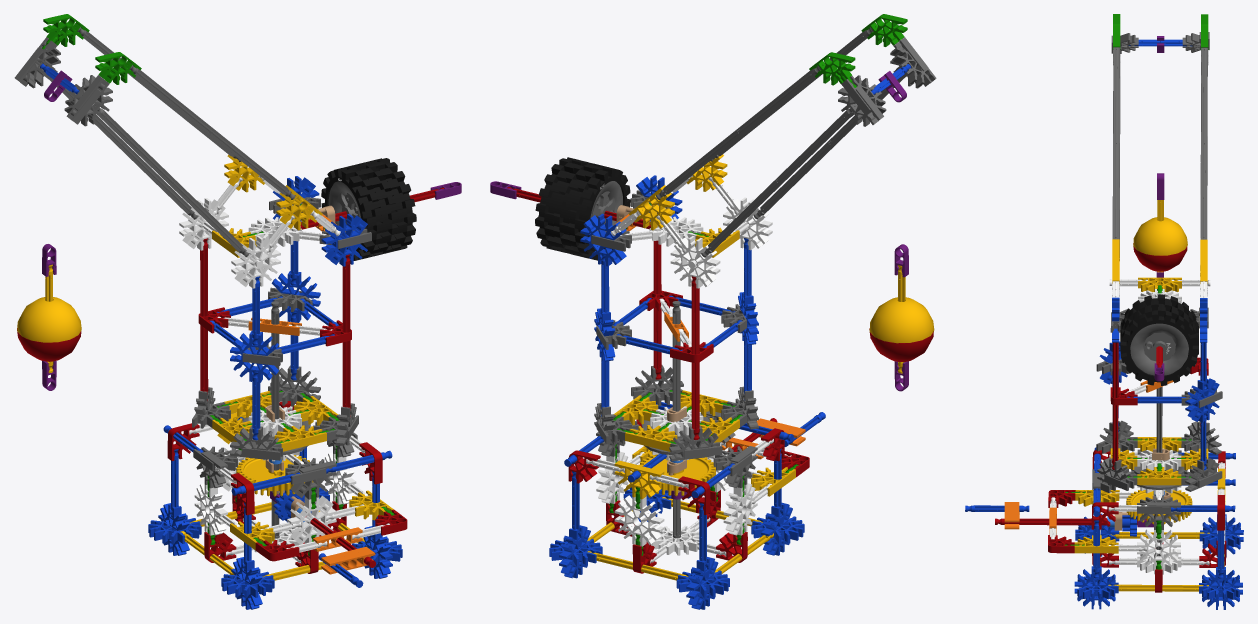
3 renders of one model, left to right at view 1: azimuth 30°, elevation 25°; view 2: azimuth 150°, elevation 25°; view 3: azimuth 270°, elevation 25°, orthographic. The views are drawn at different scales.
Visible parts, largest first — view 1: S1_L10.007, S1_L10.002, S1_L10.001, S1_L10.004, S1_L10.003, S1_L10.012, S1_L10.005, S1_L10.006, S1_L10.010, S1_L10.008; view 2: S1_L10.007, S1_L10.002, S1_L10.001, S1_L10.004, S1_L10.003, S1_L10.012, S1_L10.005, S1_L10.010, S1_L10.006, S1_L10.008; view 3: S1_L10.007, S1_L10.002, S1_L10.001, S1_L10.003, S1_L10.004, S1_L10.012, S1_L10.005, S1_L10.006, S1_L10.010, S1_L10.008.
Part boxes in pixels (x1,y1,x2,y2): S1_L10.007: [14, 27, 371, 538]; S1_L10.002: [40, 63, 402, 609]; S1_L10.001: [17, 154, 393, 580]; S1_L10.004: [179, 175, 389, 563]; S1_L10.003: [17, 187, 444, 573]; S1_L10.012: [321, 158, 416, 260]; S1_L10.005: [42, 14, 394, 556]; S1_L10.006: [248, 207, 375, 574]; S1_L10.010: [42, 70, 461, 503]; S1_L10.008: [265, 205, 335, 517]; S1_L10.007: [590, 27, 936, 538]; S1_L10.002: [549, 64, 911, 609]; S1_L10.001: [587, 154, 934, 580]; S1_L10.004: [586, 175, 791, 563]; S1_L10.003: [507, 187, 933, 573]; S1_L10.012: [535, 157, 630, 260]; S1_L10.005: [609, 14, 907, 555]; S1_L10.010: [490, 71, 908, 499]; S1_L10.006: [614, 214, 805, 459]; S1_L10.008: [616, 205, 686, 492]; S1_L10.007: [1092, 32, 1222, 556]; S1_L10.002: [965, 39, 1243, 609]; S1_L10.001: [1074, 200, 1225, 591]; S1_L10.003: [995, 243, 1226, 592]; S1_L10.004: [1049, 264, 1225, 574]; S1_L10.012: [1120, 294, 1198, 385]; S1_L10.005: [1064, 14, 1208, 569]; S1_L10.006: [1004, 380, 1173, 534]; S1_L10.010: [1137, 36, 1164, 527]; S1_L10.008: [1114, 448, 1170, 530].
Bounding box in the file's own units: 2.98 × 3.72 × 1.94.
